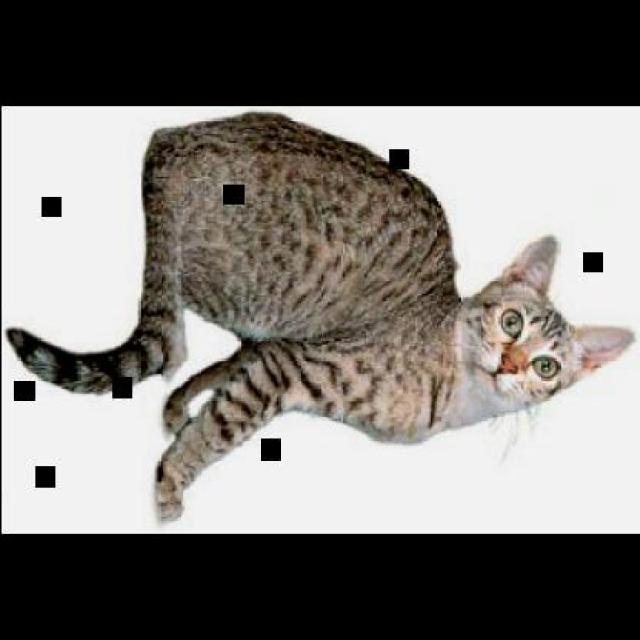unauthorized: (4, 109, 636, 522)
